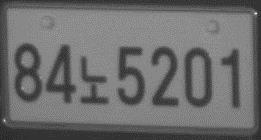0: (184, 47, 212, 107)
1: (221, 46, 241, 109)
2: (150, 45, 179, 107)
4: (44, 43, 76, 105)
5: (116, 45, 147, 105)
8: (13, 42, 41, 101)
노: (79, 55, 110, 105)
